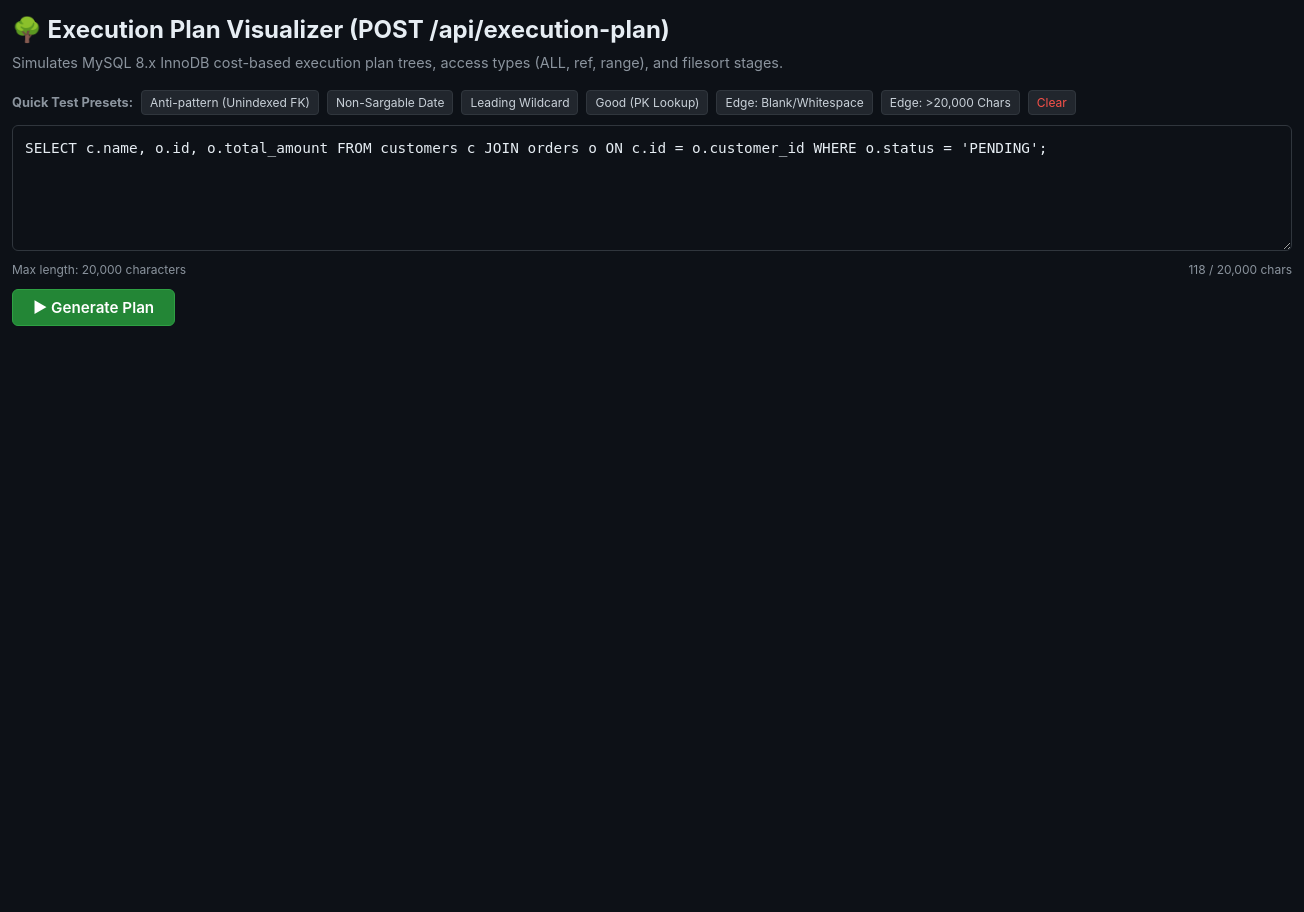
Test case: ExecutionPlanPage Component › renders execution plan tree, summary badges, and node details upon success
Click the button "▶ Generate Plan" at (94, 308), box [12,289,175,326]
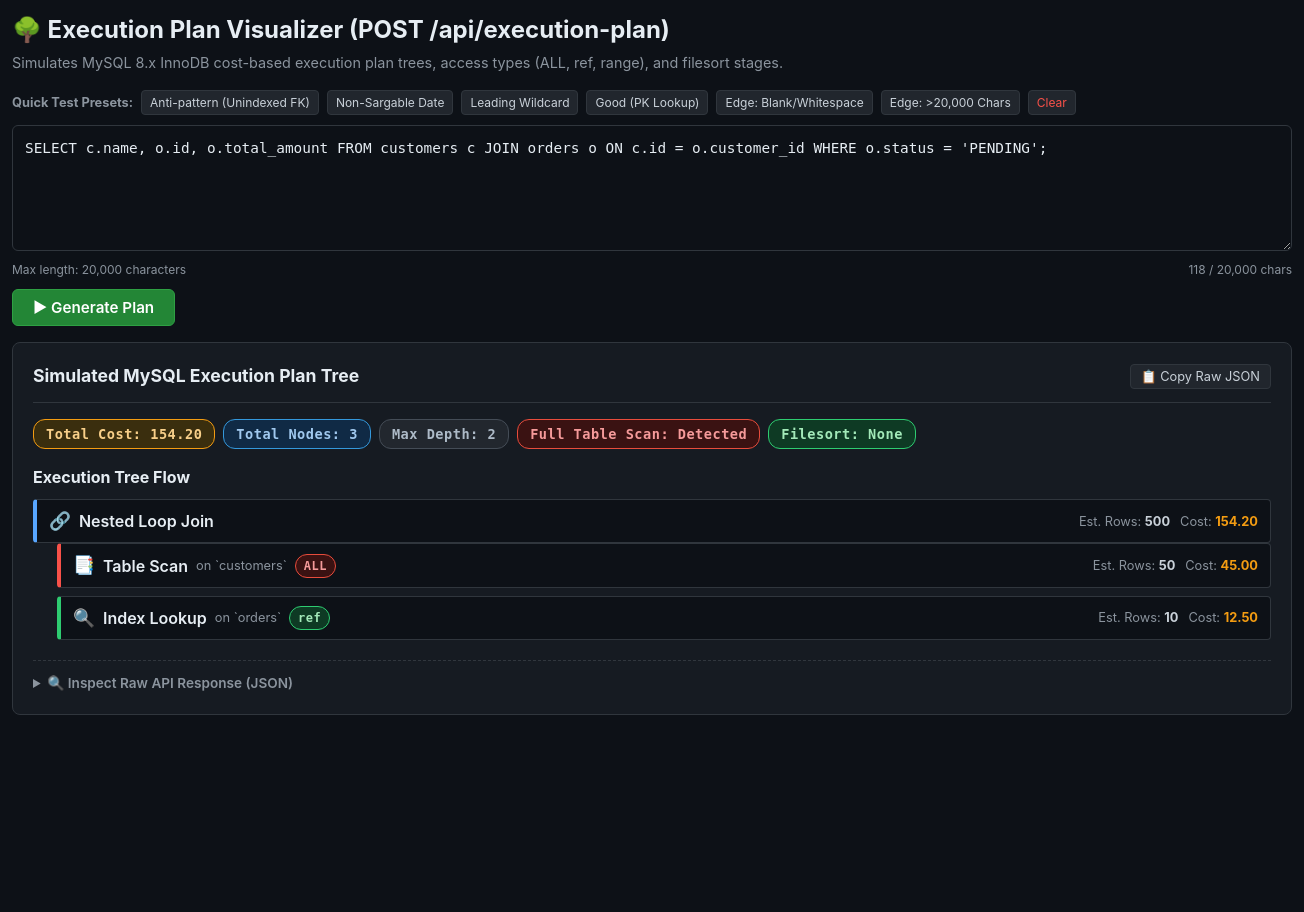
Check: the heading "Simulated MySQL Execution Plan Tree" is shown, box [33,363,359,390]
Check: the text "Total Cost: 154.20" is shown, box [33,419,215,449]
Check: the text "Total Nodes: 3" is shown, box [223,419,371,449]
